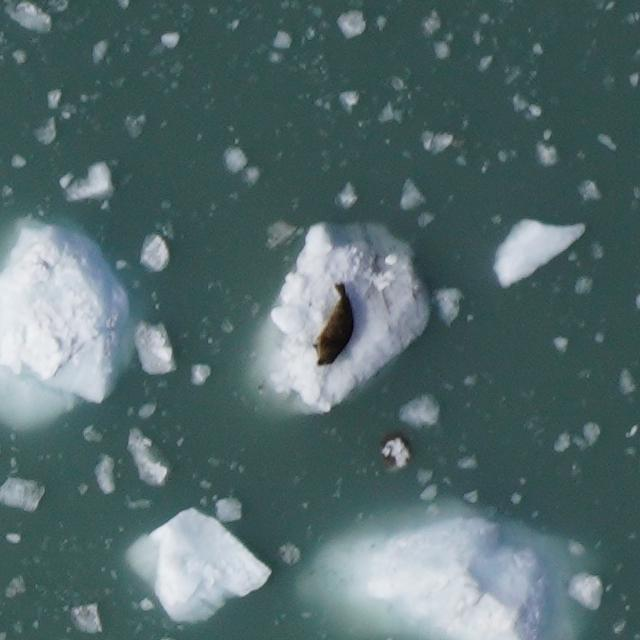seal: (309, 278, 360, 369)
